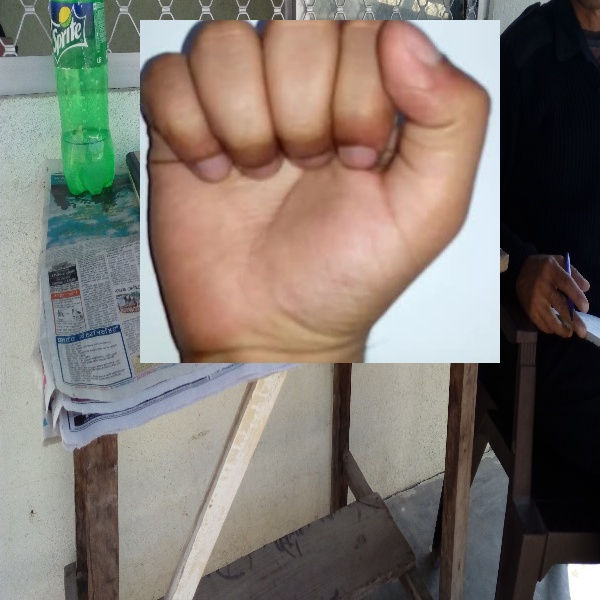A: (140, 20, 500, 363)
